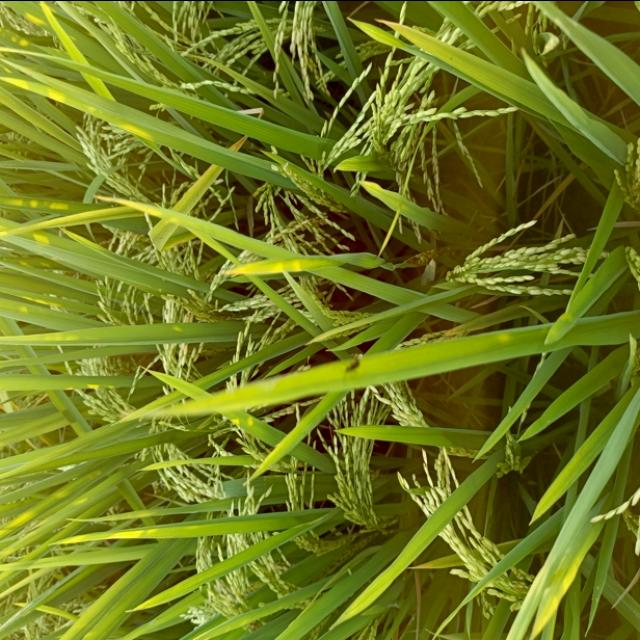Wereng: (340, 351, 366, 378)
